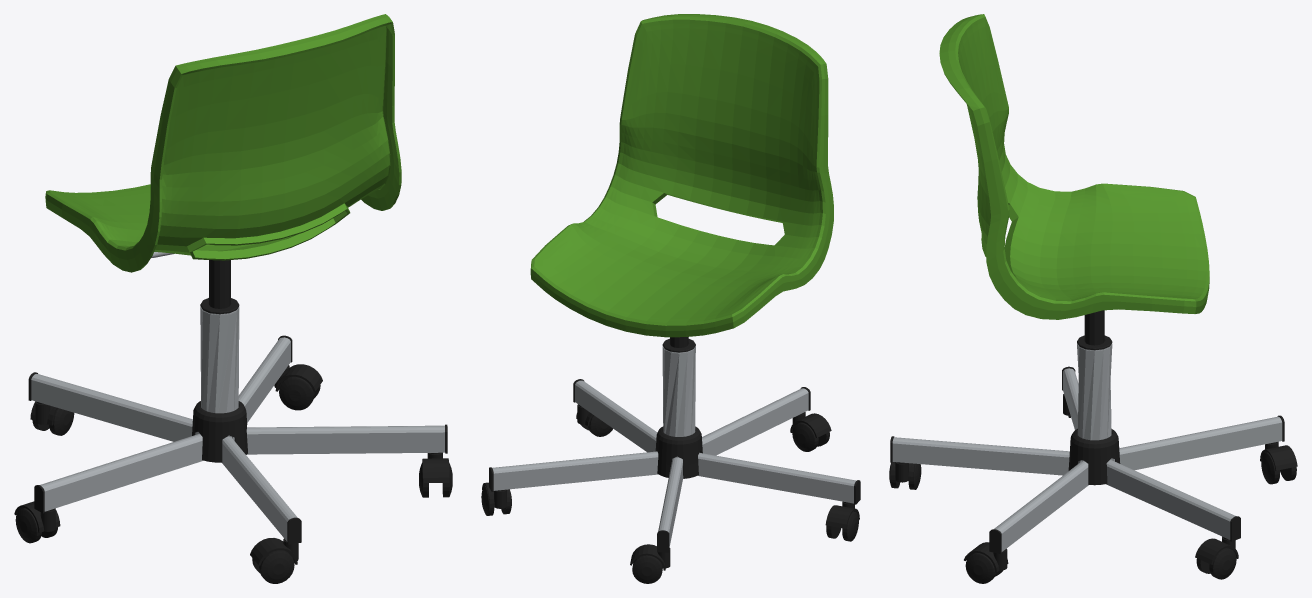
3 views of the same model, side by side, from view 1: azimuth 30°, elevation 25°; view 2: azimuth 150°, elevation 25°; view 3: azimuth 270°, elevation 25° (orthographic). The views are drawn at different scales.
Visible parts, largest first — view 1: Mesh2 Group2 SNILLE_IKEA1 Model, Mesh8 Group6 SNILLE_IKEA1 Model, Mesh7 Group5 SNILLE_IKEA1 Model, Mesh1 Group1 SNILLE_IKEA1 Model, Mesh3 Group3 SNILLE_IKEA1 Model, Mesh22 ROULETTE5 SNILLE_IKEA1 Model, Mesh14 ROULETTE2 SNILLE_IKEA1 Model, Mesh12 ROULETTE2 SNILLE_IKEA1 Model, Mesh15 ROULETTE3 SNILLE_IKEA1 Model, Mesh21 ROULETTE5 SNILLE_IKEA1 Model, Mesh18 ROULETTE4 SNILLE_IKEA1 Model, Mesh20 ROULETTE4 SNILLE_IKEA1 Model; view 2: Mesh2 Group2 SNILLE_IKEA1 Model, Mesh8 Group6 SNILLE_IKEA1 Model, Mesh7 Group5 SNILLE_IKEA1 Model, Mesh1 Group1 SNILLE_IKEA1 Model, Mesh11 ROULETTE1 SNILLE_IKEA1 Model, Mesh18 ROULETTE4 SNILLE_IKEA1 Model, Mesh13 ROULETTE2 SNILLE_IKEA1 Model, Mesh12 ROULETTE2 SNILLE_IKEA1 Model, Mesh9 ROULETTE1 SNILLE_IKEA1 Model; view 3: Mesh2 Group2 SNILLE_IKEA1 Model, Mesh8 Group6 SNILLE_IKEA1 Model, Mesh7 Group5 SNILLE_IKEA1 Model, Mesh1 Group1 SNILLE_IKEA1 Model, Mesh3 Group3 SNILLE_IKEA1 Model, Mesh17 ROULETTE3 SNILLE_IKEA1 Model, Mesh9 ROULETTE1 SNILLE_IKEA1 Model, Mesh21 ROULETTE5 SNILLE_IKEA1 Model, Mesh23 ROULETTE5 SNILLE_IKEA1 Model, Mesh15 ROULETTE3 SNILLE_IKEA1 Model.
Part boxes in pixels (box(x1,y1,x2,y2)): Mesh2 Group2 SNILLE_IKEA1 Model: box(45, 14, 401, 272); Mesh8 Group6 SNILLE_IKEA1 Model: box(28, 335, 447, 544); Mesh7 Group5 SNILLE_IKEA1 Model: box(200, 306, 239, 413); Mesh1 Group1 SNILLE_IKEA1 Model: box(192, 401, 247, 462); Mesh3 Group3 SNILLE_IKEA1 Model: box(200, 260, 239, 314); Mesh22 ROULETTE5 SNILLE_IKEA1 Model: box(279, 376, 314, 410); Mesh14 ROULETTE2 SNILLE_IKEA1 Model: box(259, 550, 294, 583); Mesh12 ROULETTE2 SNILLE_IKEA1 Model: box(250, 538, 298, 565); Mesh15 ROULETTE3 SNILLE_IKEA1 Model: box(422, 452, 449, 482); Mesh21 ROULETTE5 SNILLE_IKEA1 Model: box(274, 364, 322, 391); Mesh18 ROULETTE4 SNILLE_IKEA1 Model: box(14, 501, 60, 532); Mesh20 ROULETTE4 SNILLE_IKEA1 Model: box(15, 508, 41, 543); Mesh2 Group2 SNILLE_IKEA1 Model: box(530, 14, 833, 337); Mesh8 Group6 SNILLE_IKEA1 Model: box(489, 379, 860, 552); Mesh7 Group5 SNILLE_IKEA1 Model: box(662, 346, 695, 436); Mesh1 Group1 SNILLE_IKEA1 Model: box(655, 426, 702, 478); Mesh11 ROULETTE1 SNILLE_IKEA1 Model: box(632, 555, 662, 583); Mesh18 ROULETTE4 SNILLE_IKEA1 Model: box(825, 501, 859, 528); Mesh13 ROULETTE2 SNILLE_IKEA1 Model: box(792, 422, 818, 451); Mesh12 ROULETTE2 SNILLE_IKEA1 Model: box(790, 412, 831, 437); Mesh9 ROULETTE1 SNILLE_IKEA1 Model: box(630, 544, 670, 570); Mesh2 Group2 SNILLE_IKEA1 Model: box(939, 14, 1209, 319); Mesh8 Group6 SNILLE_IKEA1 Model: box(890, 366, 1284, 554); Mesh7 Group5 SNILLE_IKEA1 Model: box(1077, 343, 1112, 440); Mesh1 Group1 SNILLE_IKEA1 Model: box(1068, 428, 1120, 485); Mesh3 Group3 SNILLE_IKEA1 Model: box(1077, 310, 1112, 350); Mesh17 ROULETTE3 SNILLE_IKEA1 Model: box(965, 552, 996, 583); Mesh9 ROULETTE1 SNILLE_IKEA1 Model: box(1260, 441, 1297, 470); Mesh21 ROULETTE5 SNILLE_IKEA1 Model: box(1195, 536, 1238, 564); Mesh23 ROULETTE5 SNILLE_IKEA1 Model: box(1209, 548, 1236, 579); Mesh15 ROULETTE3 SNILLE_IKEA1 Model: box(964, 542, 1008, 572).
Size of the model in its own units: 0.5803 by 0.7415 by 0.5973.
